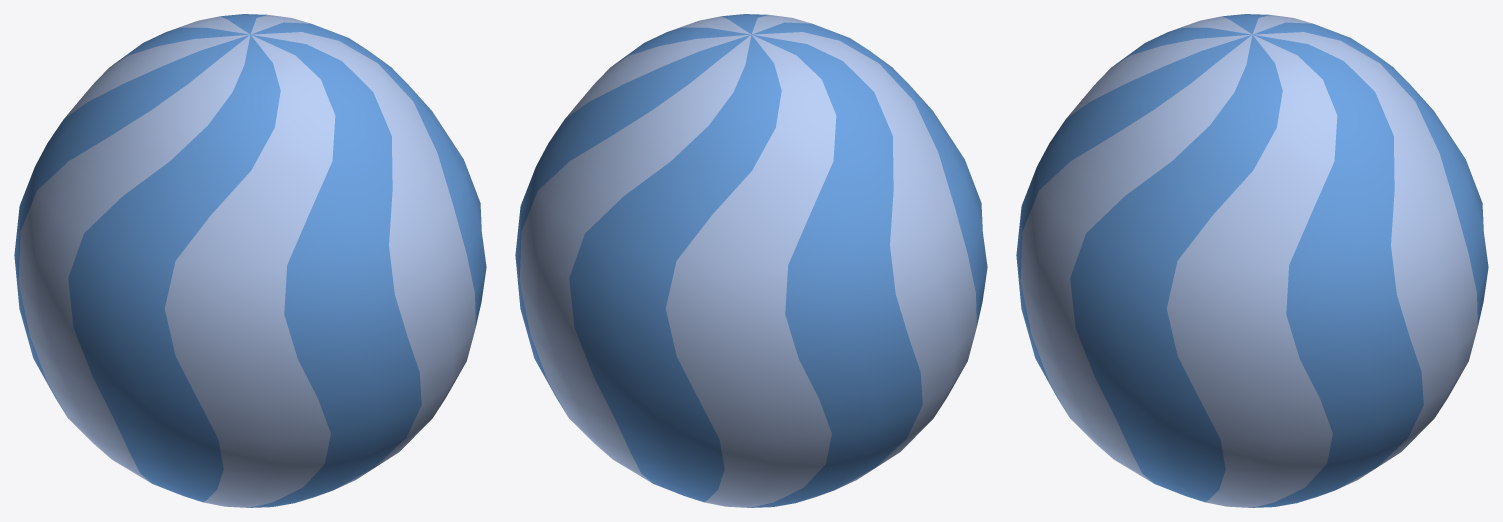
Rendered from Candy_A_01.fbx.
The picture shows the model from 3 angles, left to right: view 1: azimuth 30°, elevation 25°; view 2: azimuth 150°, elevation 25°; view 3: azimuth 270°, elevation 25°; orthographic projection.
Visible parts, largest first — view 1: Candy_A_01_LOD0; view 2: Candy_A_01_LOD0; view 3: Candy_A_01_LOD0.
Boxes of the visible parts, left/top/right/bottom form: Candy_A_01_LOD0: left=14, top=14, right=486, bottom=507; Candy_A_01_LOD0: left=515, top=14, right=987, bottom=507; Candy_A_01_LOD0: left=1016, top=14, right=1488, bottom=507.
Size of what is drawn, in the model's own units: 311 by 330 by 311.
